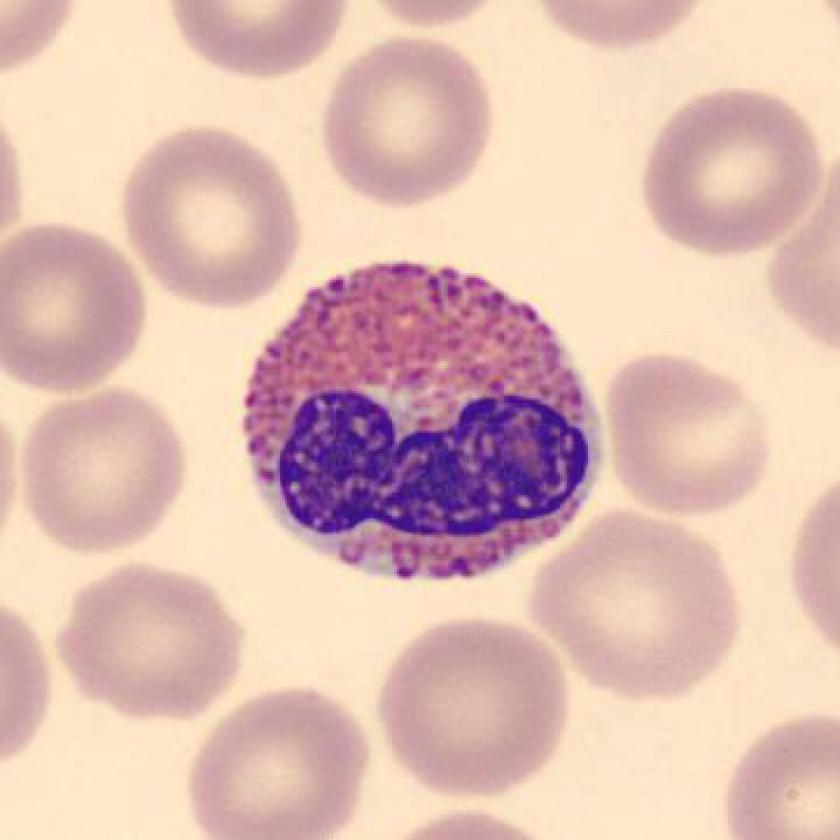eosinophil: (227, 249, 622, 603)
